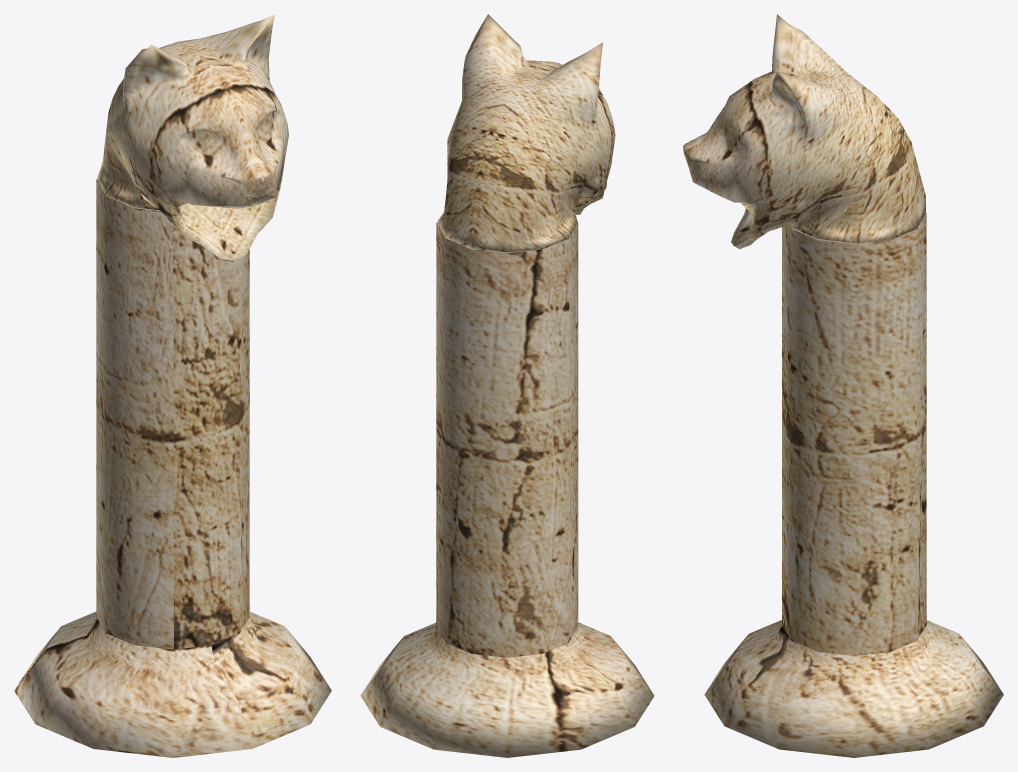
File: ColonnaTestaDiGatto.fbx
3 views of the same model, side by side, from view 1: azimuth 30°, elevation 25°; view 2: azimuth 150°, elevation 25°; view 3: azimuth 270°, elevation 25° (orthographic). The views are drawn at different scales.
Visible parts, largest first — view 1: Column, CatHead, Base; view 2: Column, CatHead, Base; view 3: Column, CatHead, Base.
Part boxes in pixels (bbox=[...]): Column: bbox=[96, 179, 249, 649]; CatHead: bbox=[97, 14, 288, 262]; Base: bbox=[14, 611, 331, 757]; Column: bbox=[436, 212, 578, 657]; CatHead: bbox=[437, 14, 615, 252]; Base: bbox=[360, 622, 654, 757]; Column: bbox=[782, 213, 926, 655]; CatHead: bbox=[683, 14, 925, 249]; Base: bbox=[704, 620, 1003, 757].
Size of the model in its own units: 56.44 by 136 by 60.47.
